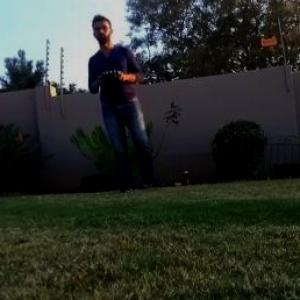follow: (85, 10, 168, 196)
